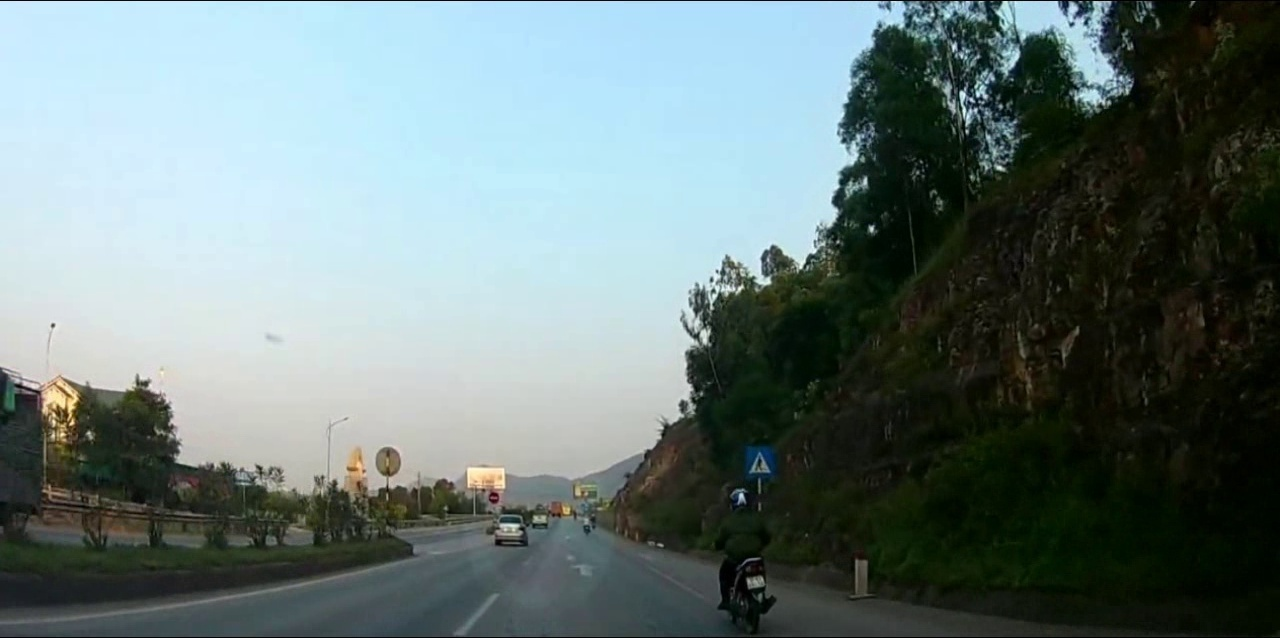Cam di nguoc chieu: (488, 490, 500, 505)
Nguoi di bo: (744, 443, 776, 478)
